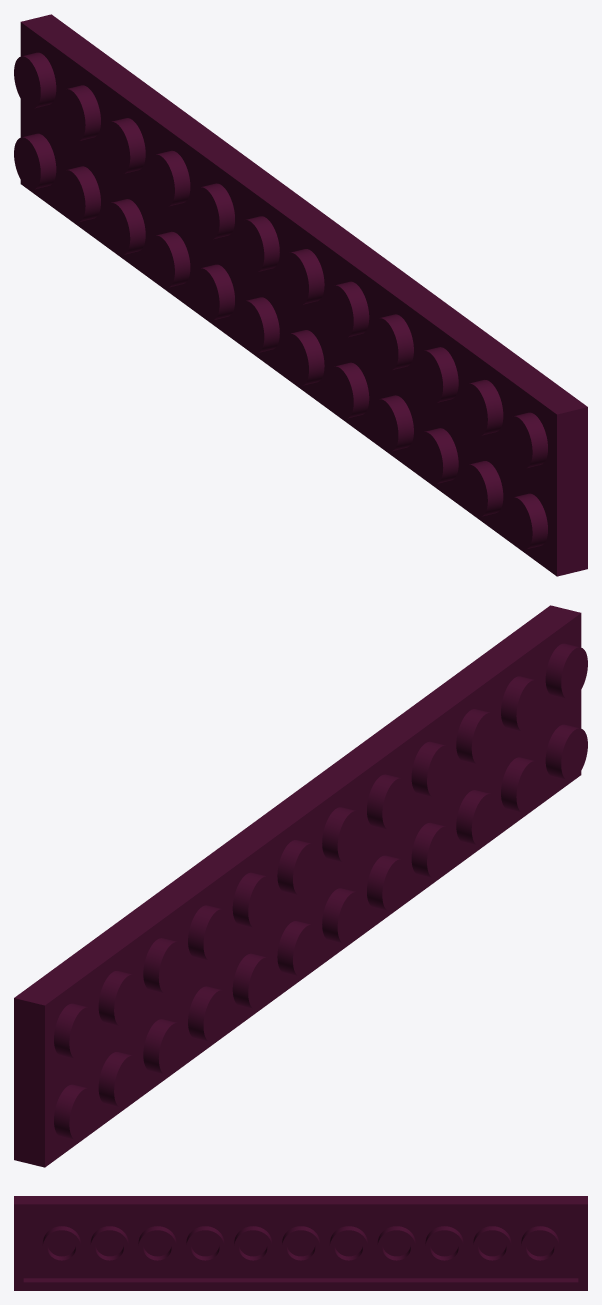
The model's file is plate2*12_magenta.obj.
3 renders of one model, top to bottom at view 1: azimuth 30°, elevation 25°; view 2: azimuth 150°, elevation 25°; view 3: azimuth 270°, elevation 25°, orthographic. The views are drawn at different scales.
Bounding box in the file's own units: 12 × 40 × 240.
